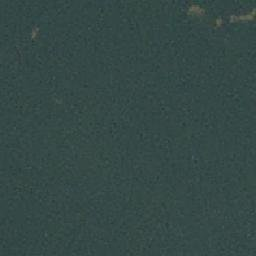debris: (218, 12, 256, 26), (186, 5, 206, 17)
